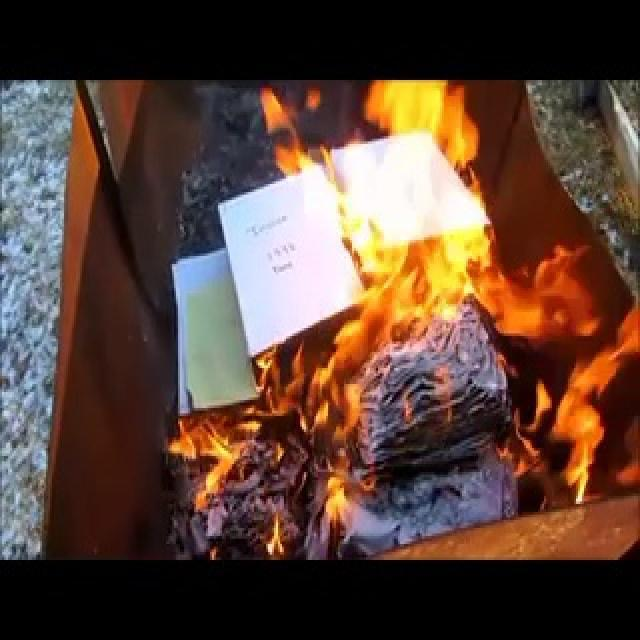Fire: (295, 78, 634, 524), (160, 396, 258, 535)
